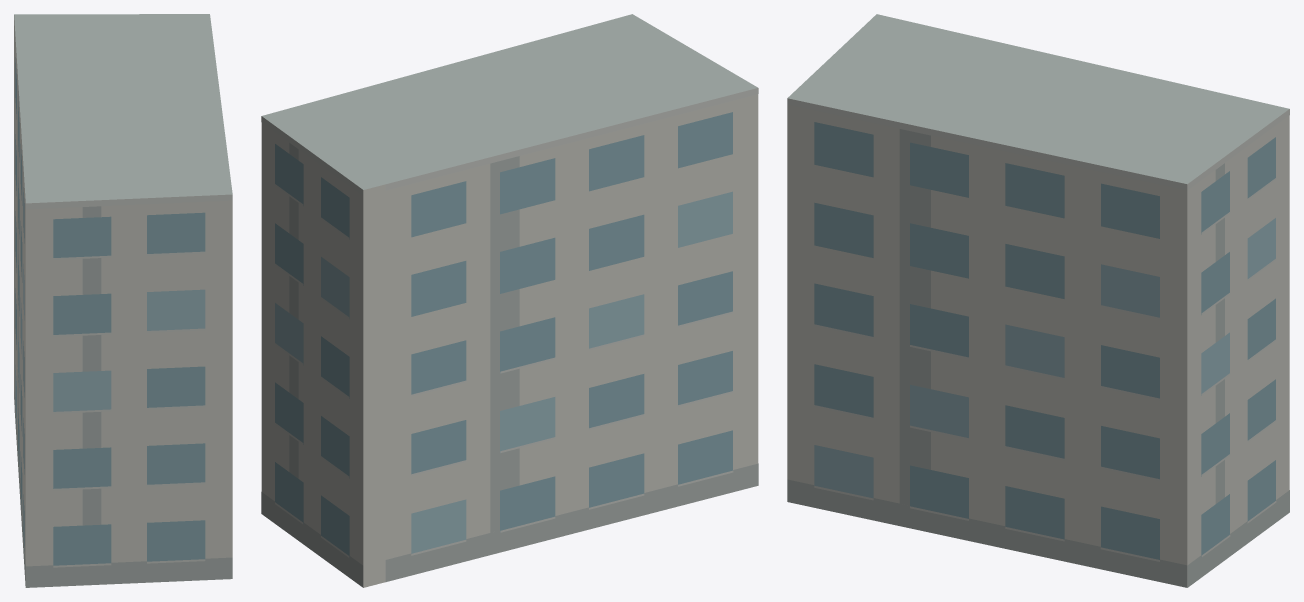
Rendered from survey-upis-32479535.glb.
The picture shows the model from 3 angles, left to right: view 1: azimuth 30°, elevation 25°; view 2: azimuth 150°, elevation 25°; view 3: azimuth 270°, elevation 25°; orthographic projection. The views are drawn at different scales.
Visible parts, largest first — view 1: survey-upis-32479535.tmp; view 2: survey-upis-32479535.tmp; view 3: survey-upis-32479535.tmp.
Boxes of the visible parts, box(x1,y1,x2,y2) form: survey-upis-32479535.tmp: box(14, 14, 232, 587); survey-upis-32479535.tmp: box(261, 14, 758, 587); survey-upis-32479535.tmp: box(787, 14, 1289, 587).
Bounding box in the file's own units: 13.8 × 15.25 × 17.21.
